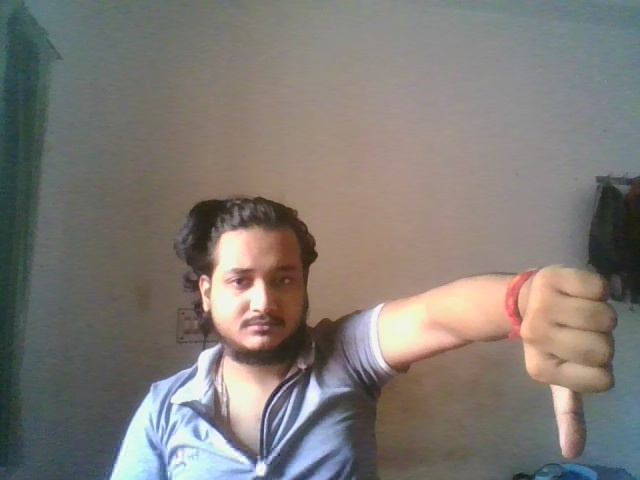ThumbsDown: (518, 266, 619, 462)
